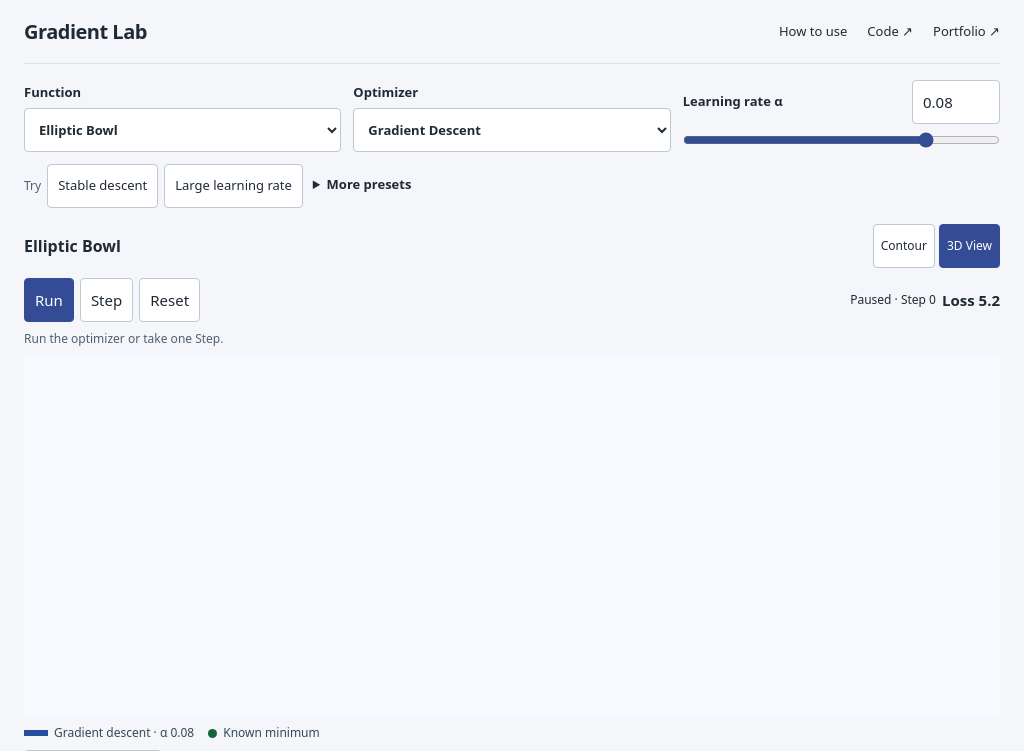
Scenario: commits an exact learning rate and announces the rate rather than its logarithm
Replace the text in the number field labelled "Learning rate α" with "0.0123". click: x=956, y=102
box: [912,80,1000,124]
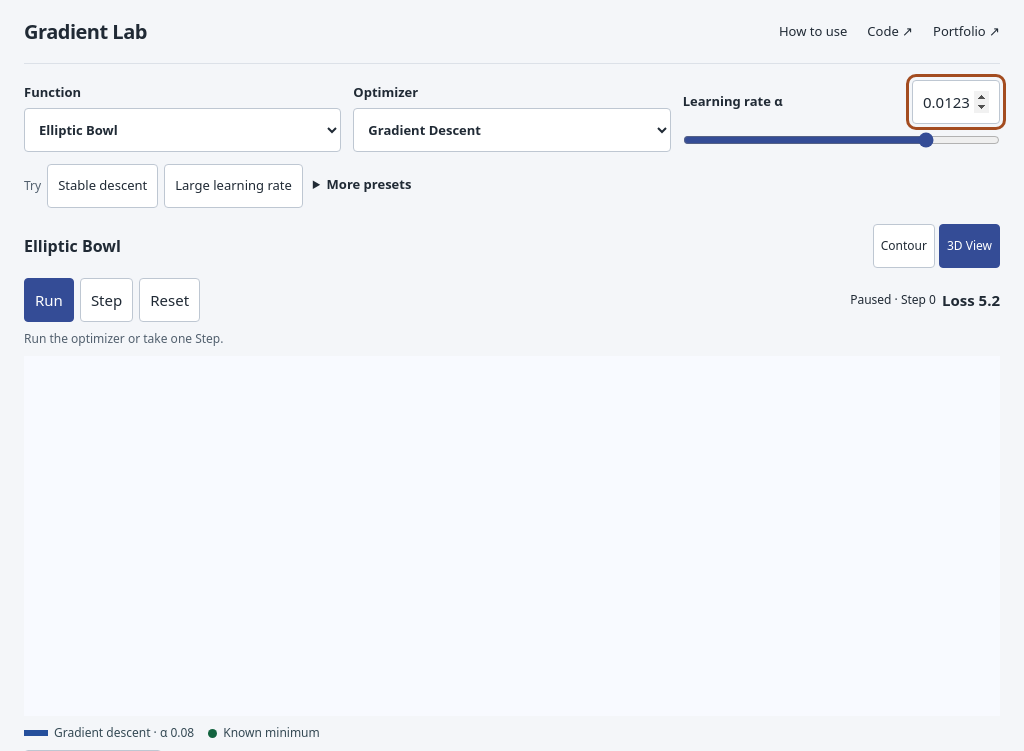
Press Tab
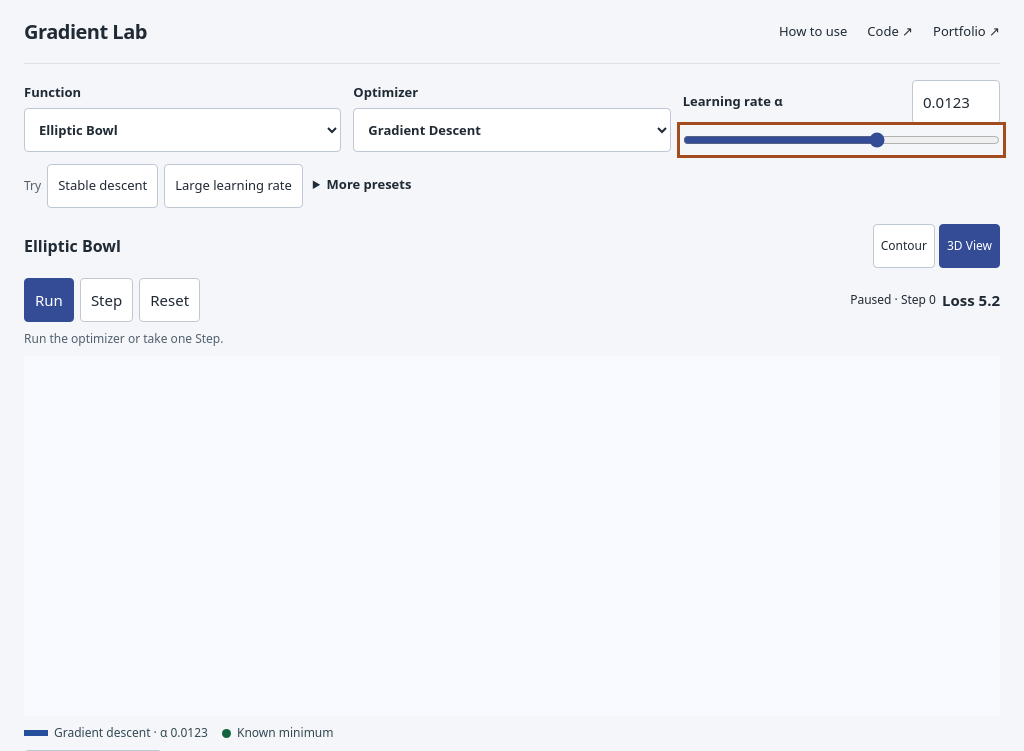
Expected: the slider named "Learning rate slider" has attribute aria-valuetext="0.0123", [683,128,1000,152]
Replace the text in the number field labelled "Learning rate α" with "4". click: x=956, y=102
box: [912,80,1000,124]
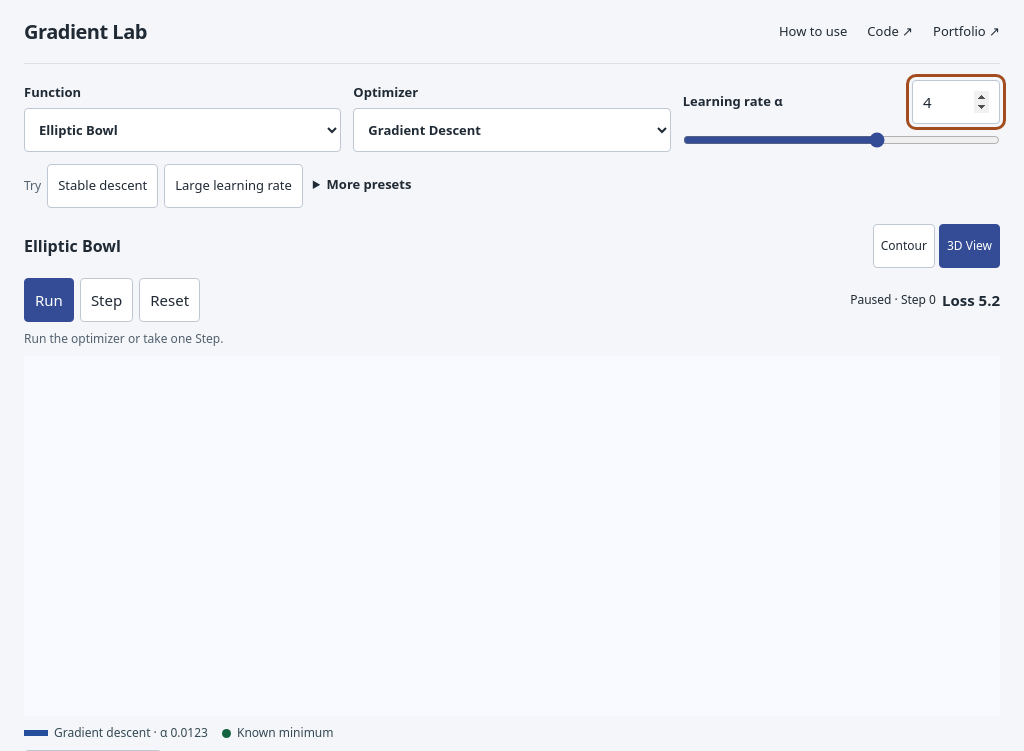
Press Tab
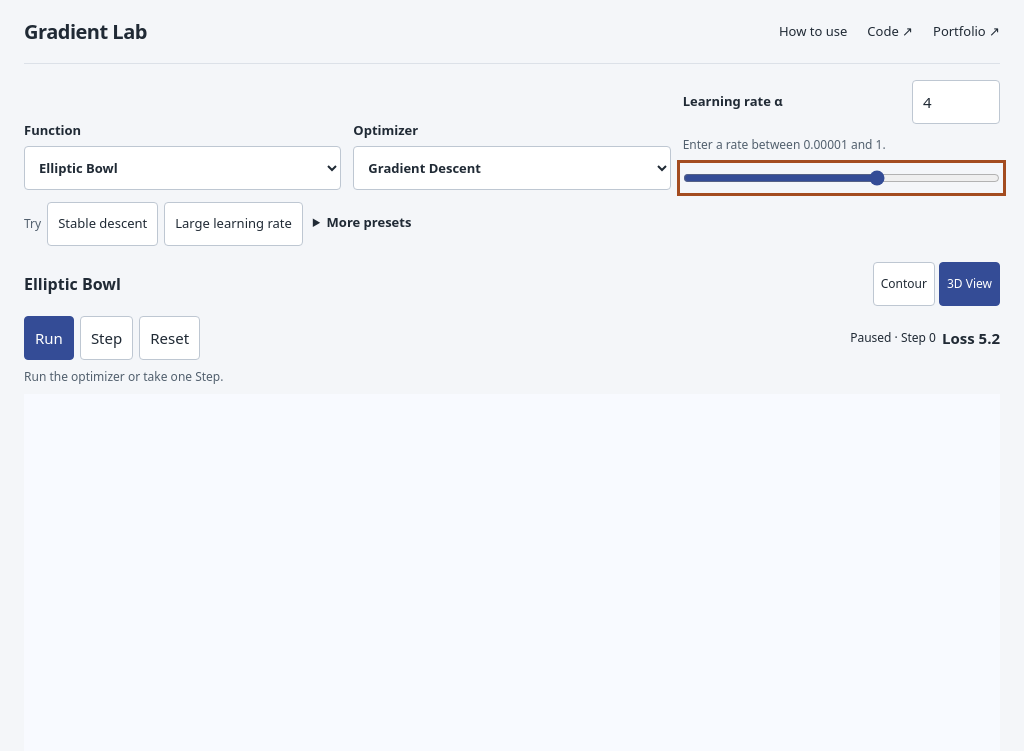
Expected: the message "Enter a rate between 0.00001 and 1." is shown, [683,136,908,154]
